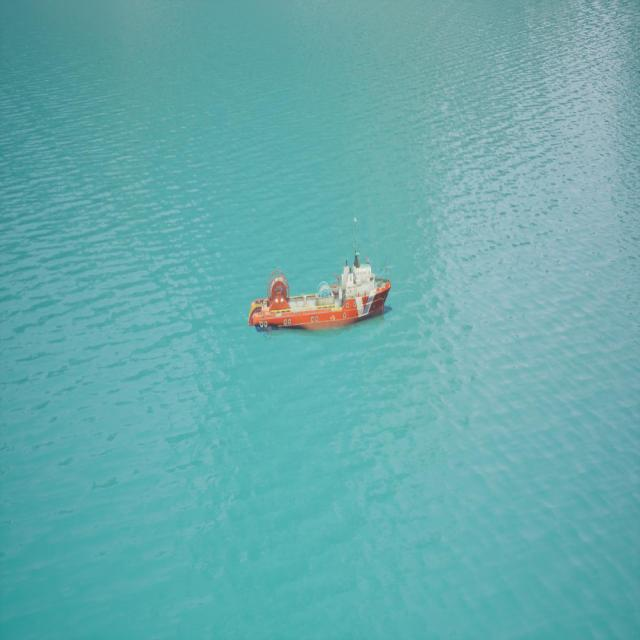tug boat: (251, 223, 393, 338)
